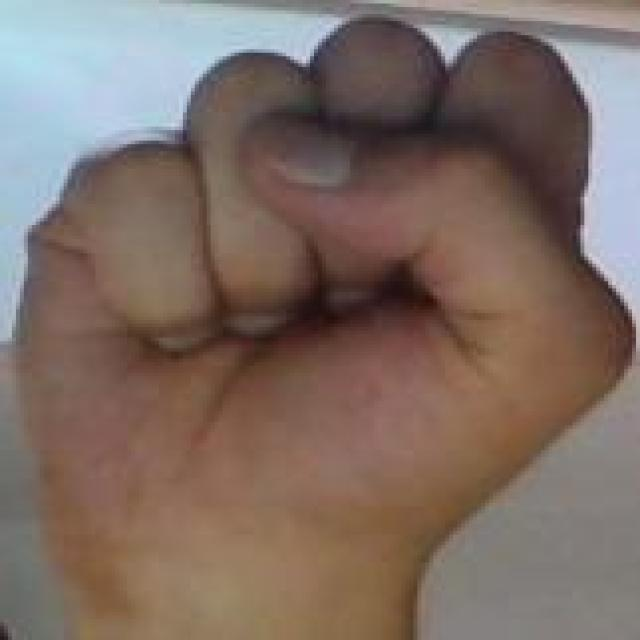S: (8, 0, 640, 584)
